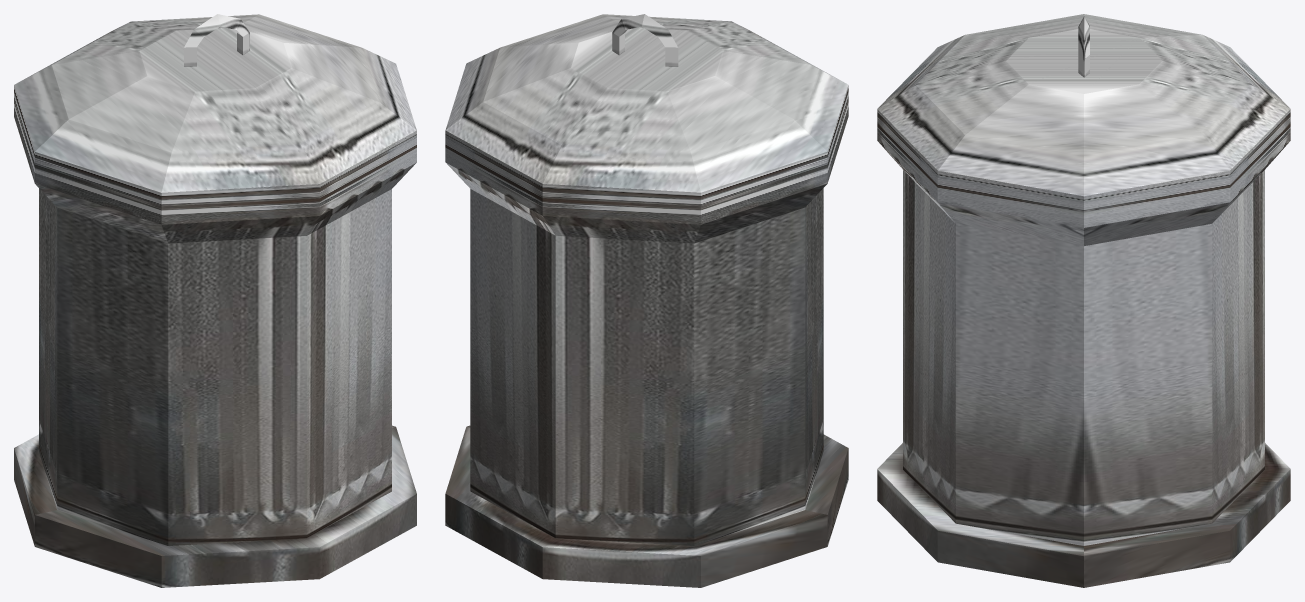
Rendered from Trash Bin.fbx.
3 renders of one model, left to right at view 1: azimuth 30°, elevation 25°; view 2: azimuth 150°, elevation 25°; view 3: azimuth 270°, elevation 25°, orthographic.
Parts seen in each view (by area): view 1: Trash Bin; view 2: Trash Bin; view 3: Trash Bin.
Part boxes in pixels (x1=…): Trash Bin: x1=14, y1=14, x2=416, y2=587; Trash Bin: x1=445, y1=14, x2=848, y2=587; Trash Bin: x1=877, y1=14, x2=1290, y2=587.
Size of the model in its own units: 91.32 by 91.32 by 118.
Materials: 1 (1 with a texture image).
